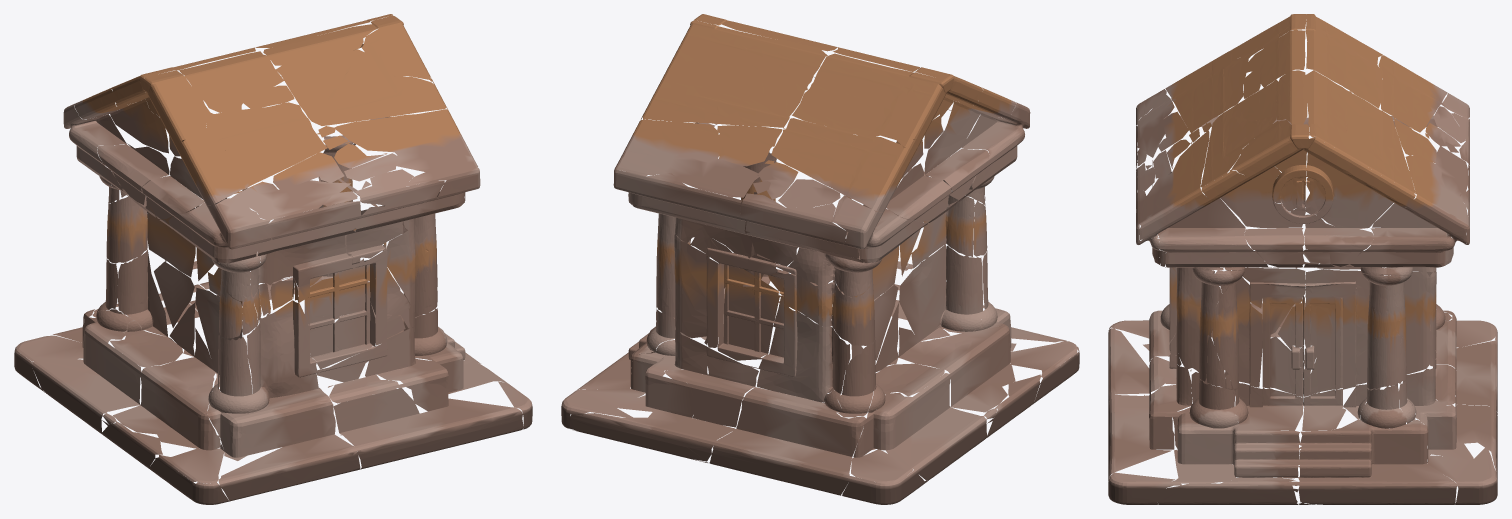
Rendered from hero-bank.glb.
The picture shows the model from 3 angles, left to right: view 1: azimuth 30°, elevation 25°; view 2: azimuth 150°, elevation 25°; view 3: azimuth 270°, elevation 25°; orthographic projection.
Parts seen in each view (by area): view 1: world; view 2: world; view 3: world.
Part boxes in pixels (x1,y1,x2,y2): world: (14, 14, 532, 504); world: (561, 14, 1079, 504); world: (1108, 14, 1497, 504).
Size of the model in its own units: 2.7 by 2.67 by 2.7.
